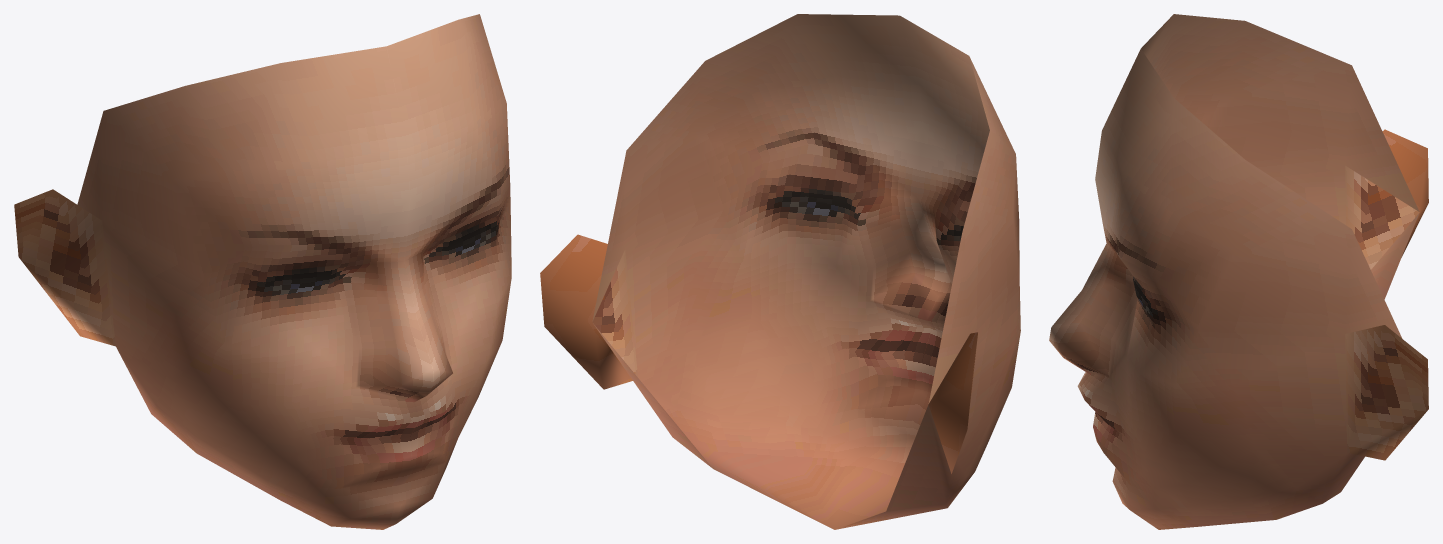
3 renders of one model, left to right at view 1: azimuth 30°, elevation 25°; view 2: azimuth 150°, elevation 25°; view 3: azimuth 270°, elevation 25°, orthographic. The views are drawn at different scales.
Visible parts, largest first — view 1: mesh00; view 2: mesh00; view 3: mesh00.
Boxes of the visible parts, x1,y1,x2,y2 form: mesh00: (14, 14, 511, 529); mesh00: (540, 14, 1020, 529); mesh00: (1049, 14, 1428, 529).
Size of the model in its own units: 19.4 by 20.14 by 14.76.
